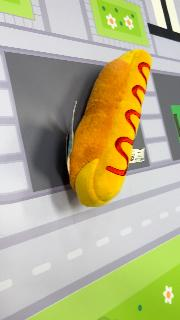hotdog: (68, 48, 153, 208)
